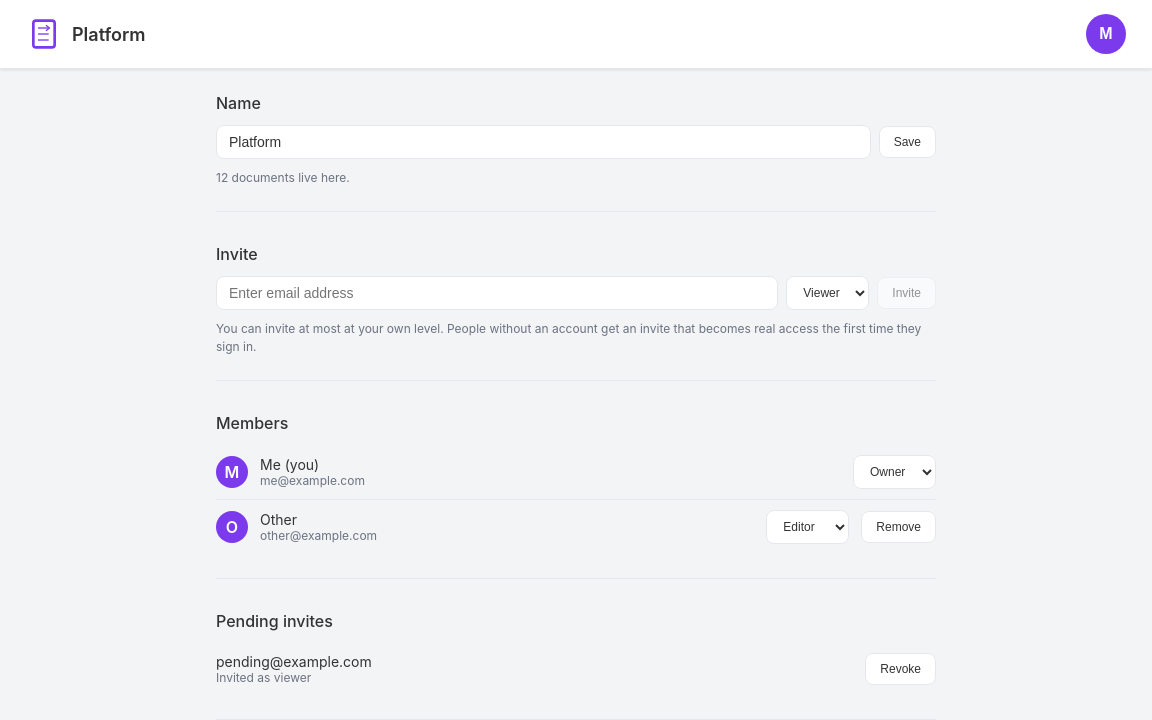
SpaceSettingsPage › feature 059: local-mode invite note (FR-024) › local mode: a pending invite says it cannot be accepted until team mode
Type "new@example.com" into the field named "Invite by email" at (497, 293), box [216, 276, 778, 310]
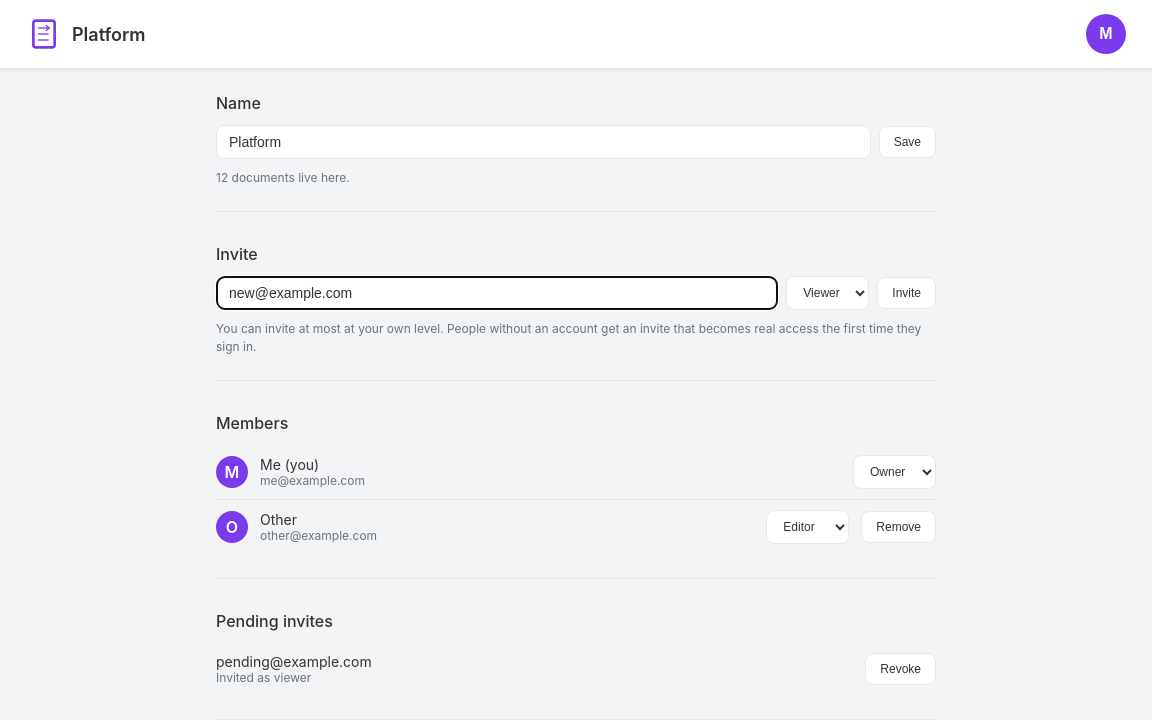
Click the button "Invite" at (907, 293), box [877, 277, 936, 309]
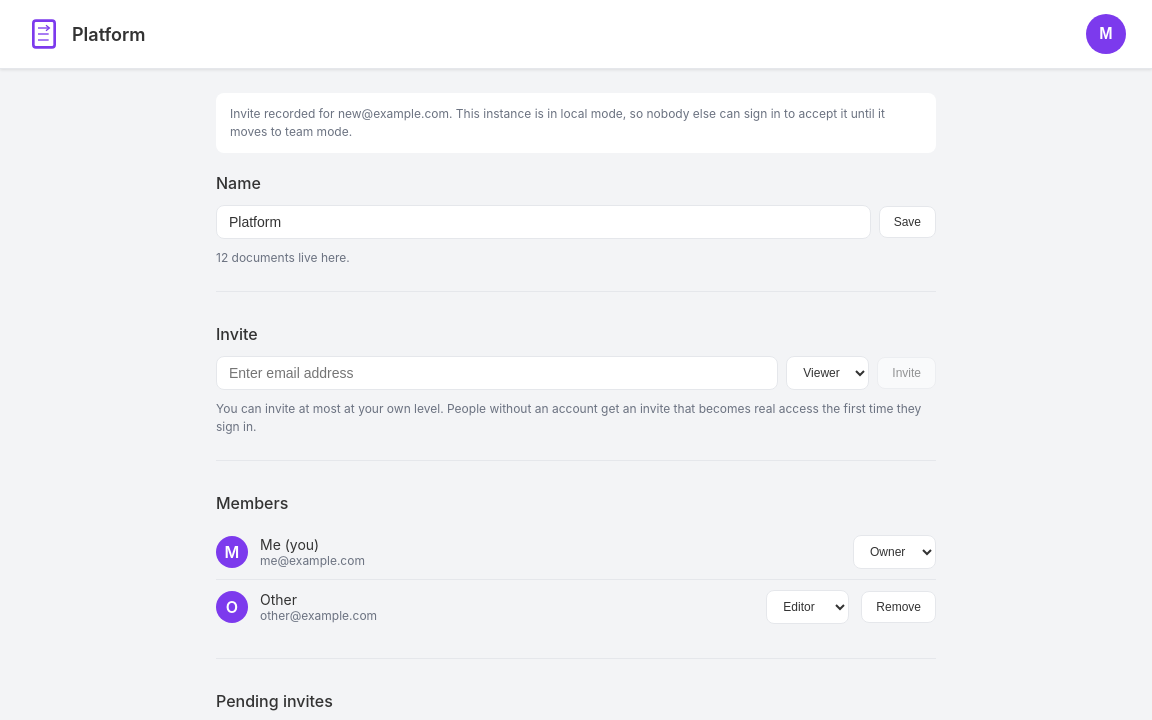
Expected: the text "Invite recorded for new@example.com. This instance is in local mode, so nobody else can sign in to accept it until it mo" is shown, [230, 106, 885, 139]
